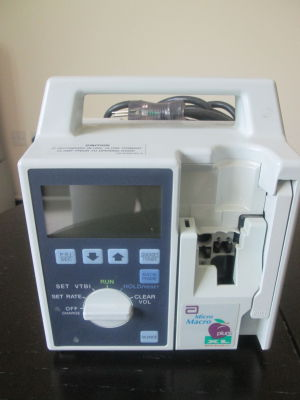plumxl1: (20, 76, 293, 352)
